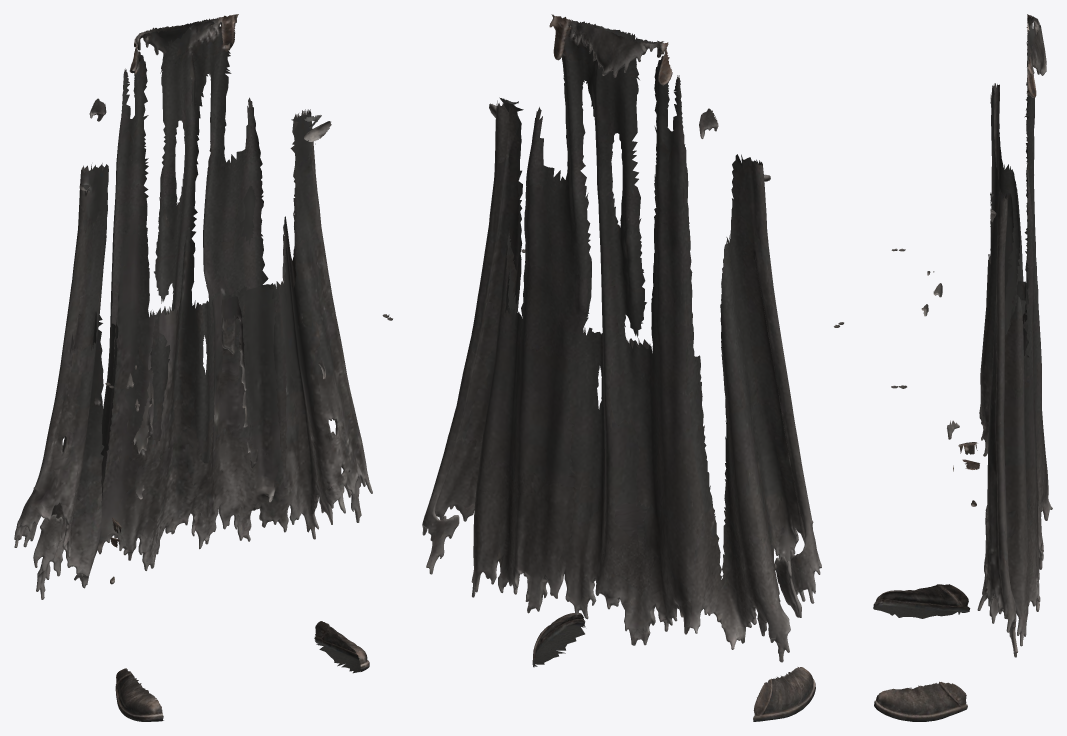
File: leather_cloak.glb
3 renders of one model, left to right at view 1: azimuth 30°, elevation 25°; view 2: azimuth 150°, elevation 25°; view 3: azimuth 270°, elevation 25°, orthographic. The views are drawn at different scales.
Size of the model in its own units: 0.8984 by 1.51 by 0.3903.
Materials: 1 (1 with a texture image).
